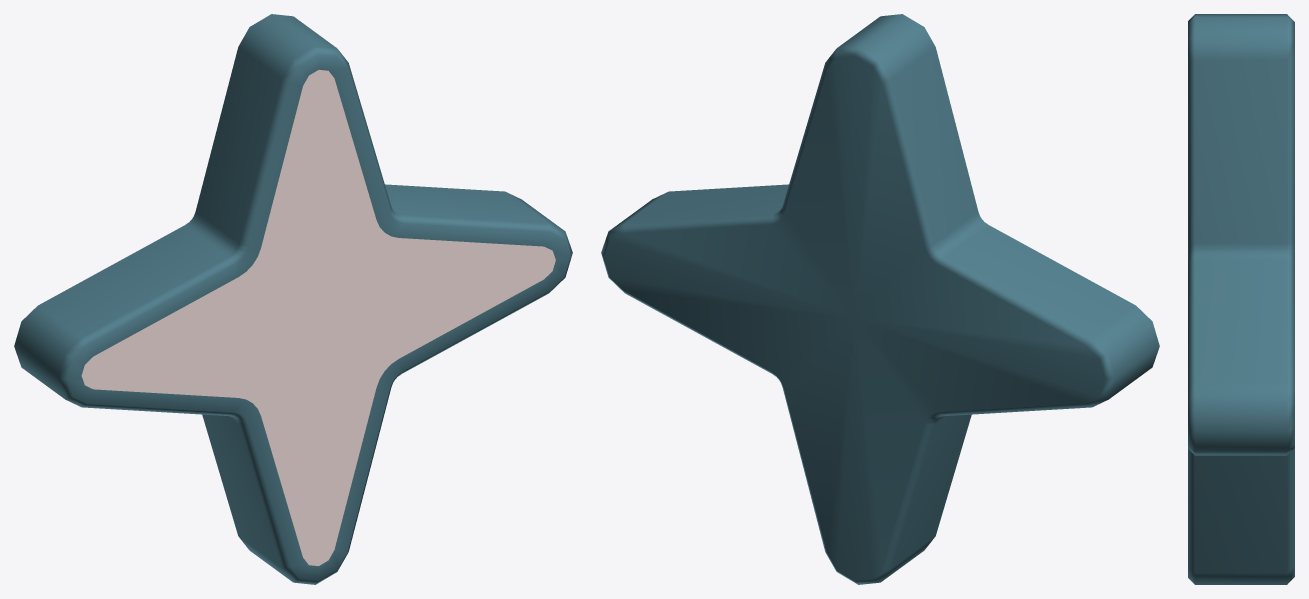
The model's file is Public_13_Star_Clean_1.glb.
The picture shows the model from 3 angles, left to right: view 1: azimuth 30°, elevation 25°; view 2: azimuth 150°, elevation 25°; view 3: azimuth 270°, elevation 25°; orthographic projection. The views are drawn at different scales.
Parts seen in each view (by area): view 1: Public_13_Star_Clean_1; view 2: Public_13_Star_Clean_1; view 3: Public_13_Star_Clean_1.
Part boxes in pixels (<box>): Public_13_Star_Clean_1: <box>14,14,572,584</box>; Public_13_Star_Clean_1: <box>601,14,1159,584</box>; Public_13_Star_Clean_1: <box>1188,14,1294,584</box>.
Size of the model in its own units: 0.7668 by 0.7668 by 0.1314.
1 material, 1 textured.
